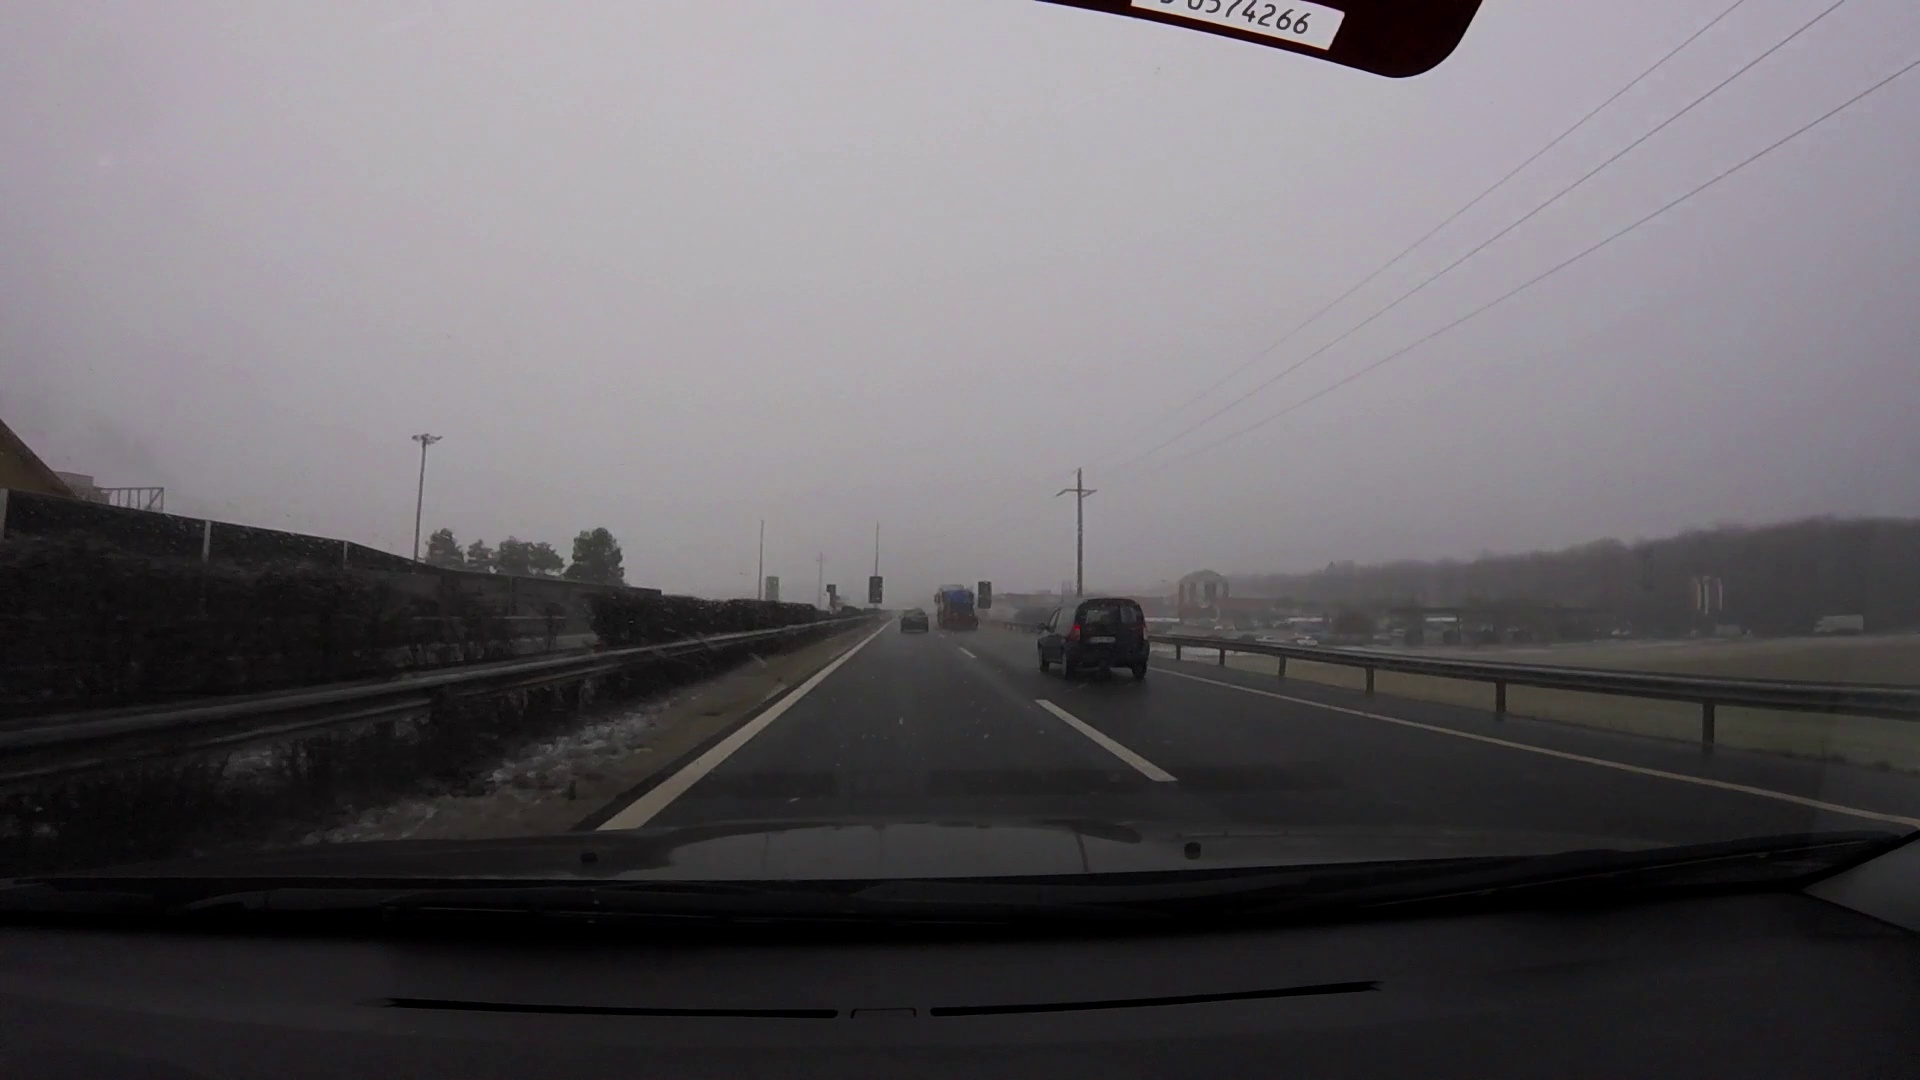radar: (824, 584, 840, 611)
